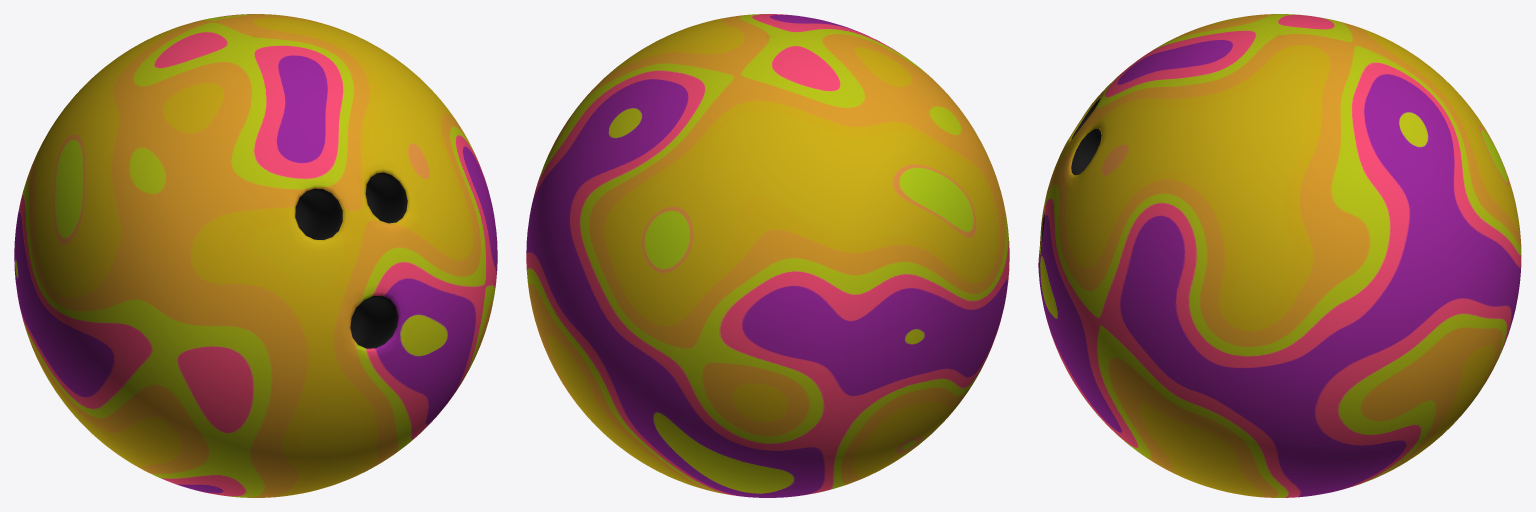
Rendered from OrangeBowlingBall.fbx.
The picture shows the model from 3 angles, left to right: view 1: azimuth 30°, elevation 25°; view 2: azimuth 150°, elevation 25°; view 3: azimuth 270°, elevation 25°; orthographic projection.
Parts seen in each view (by area): view 1: Sphere.001; view 2: Sphere.001; view 3: Sphere.001.
Part boxes in pixels (bbox=[...]): Sphere.001: bbox=[14, 14, 497, 497]; Sphere.001: bbox=[526, 14, 1009, 497]; Sphere.001: bbox=[1038, 14, 1521, 497].
Size of the model in its own units: 199 by 200 by 199.
